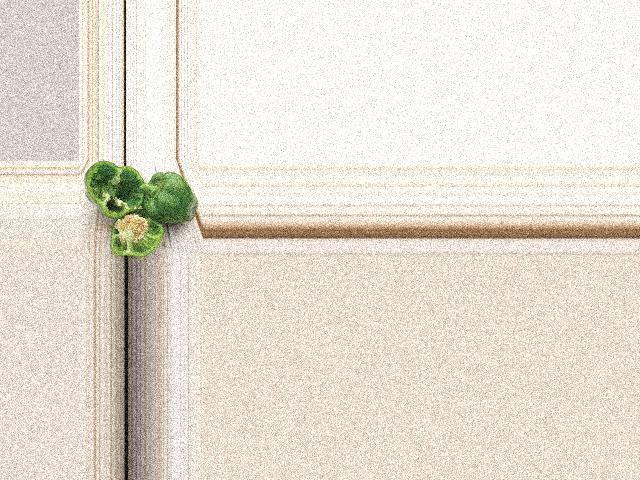bell_pepper: (99, 210, 167, 256)
